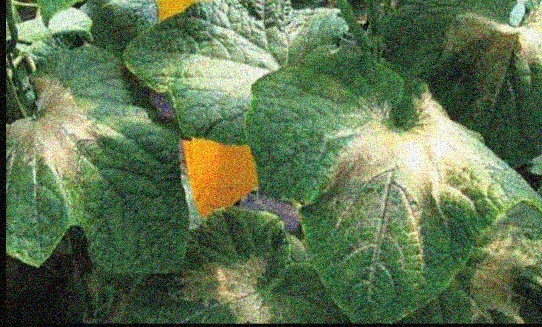cucumber_plant: (256, 48, 526, 321), (8, 33, 194, 272)
